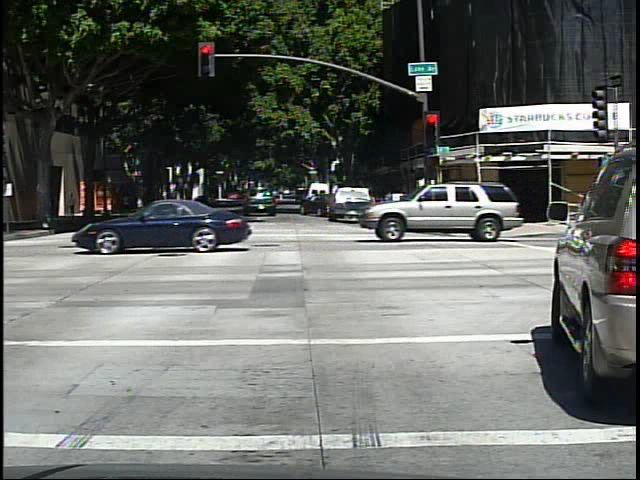person: (66, 190, 80, 221)
